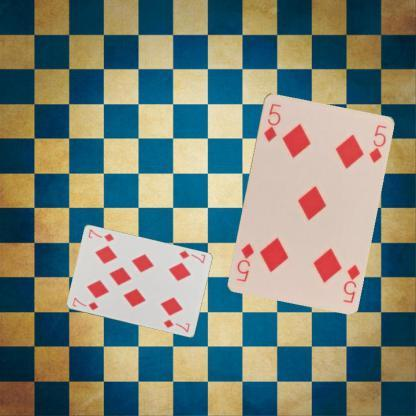5d: (340, 261, 362, 304), (260, 101, 282, 142)
7d: (70, 294, 100, 312), (176, 248, 206, 264)
